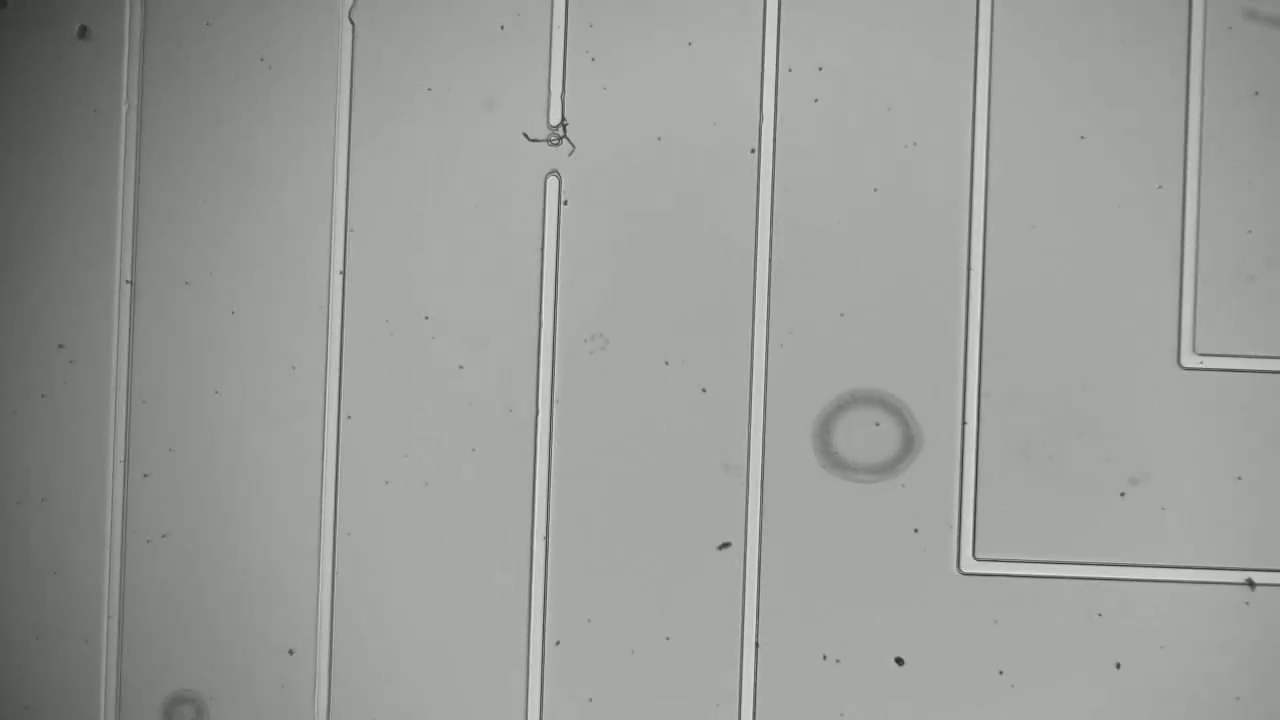edge_bite: (330, 1, 365, 30)
open: (532, 112, 573, 191)
stains_enbedded: (1235, 563, 1268, 596)
